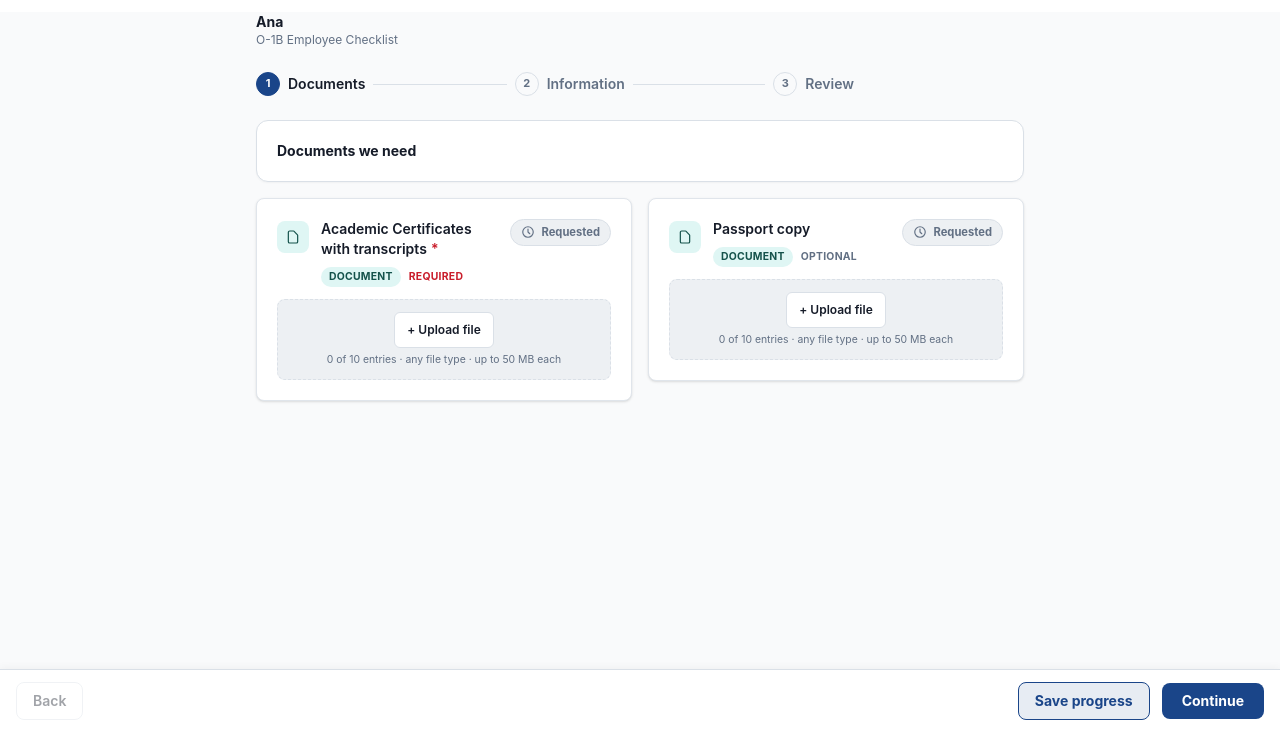
Test case: EmployeePacketStepper with requested items › on the Information step the requested text item comes first, above the other questions
Click the button "Continue" at (1213, 701), box [1162, 683, 1264, 719]
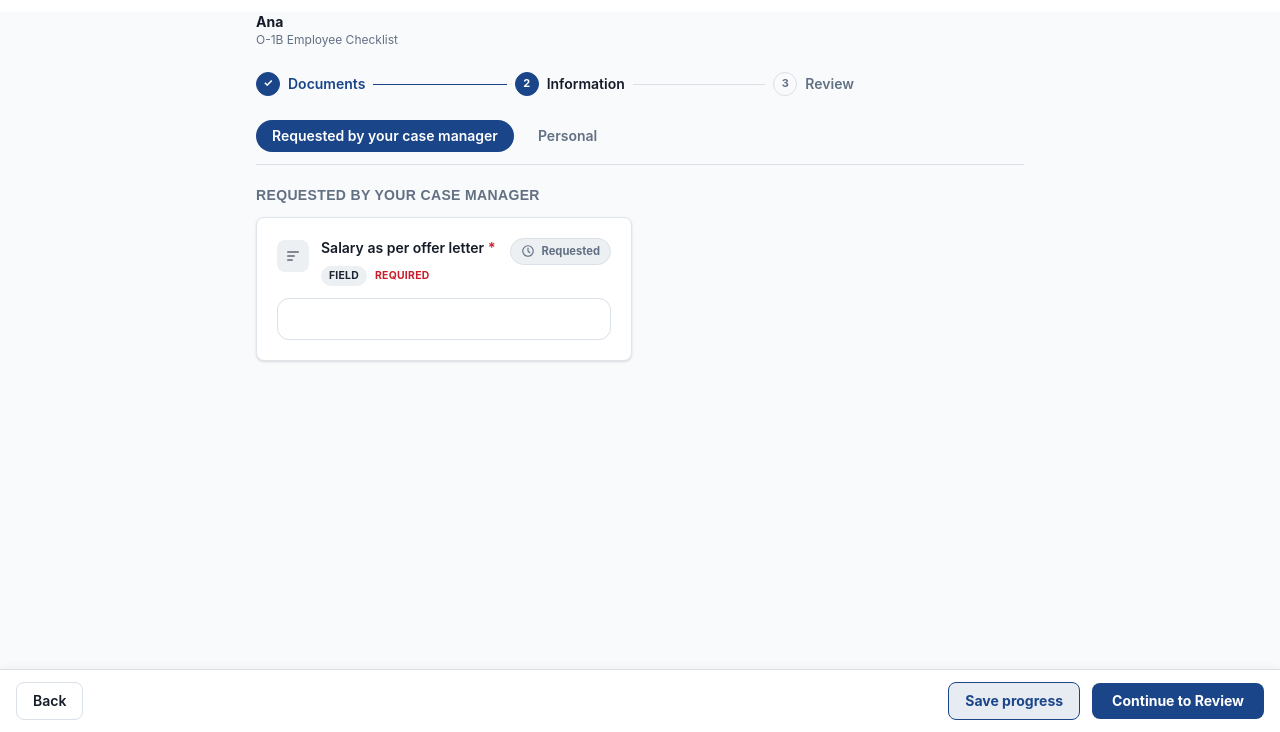
Now the text "Salary as per offer letter*" is shown, box [321, 238, 496, 258]
